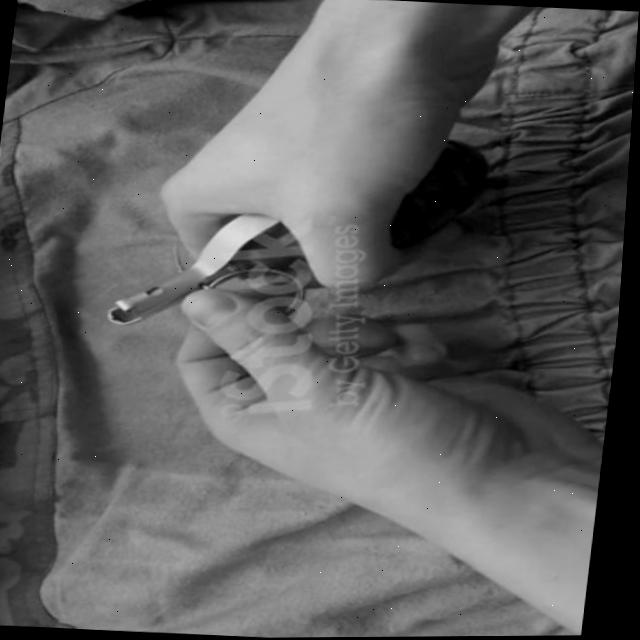grenade: (82, 115, 504, 342)
